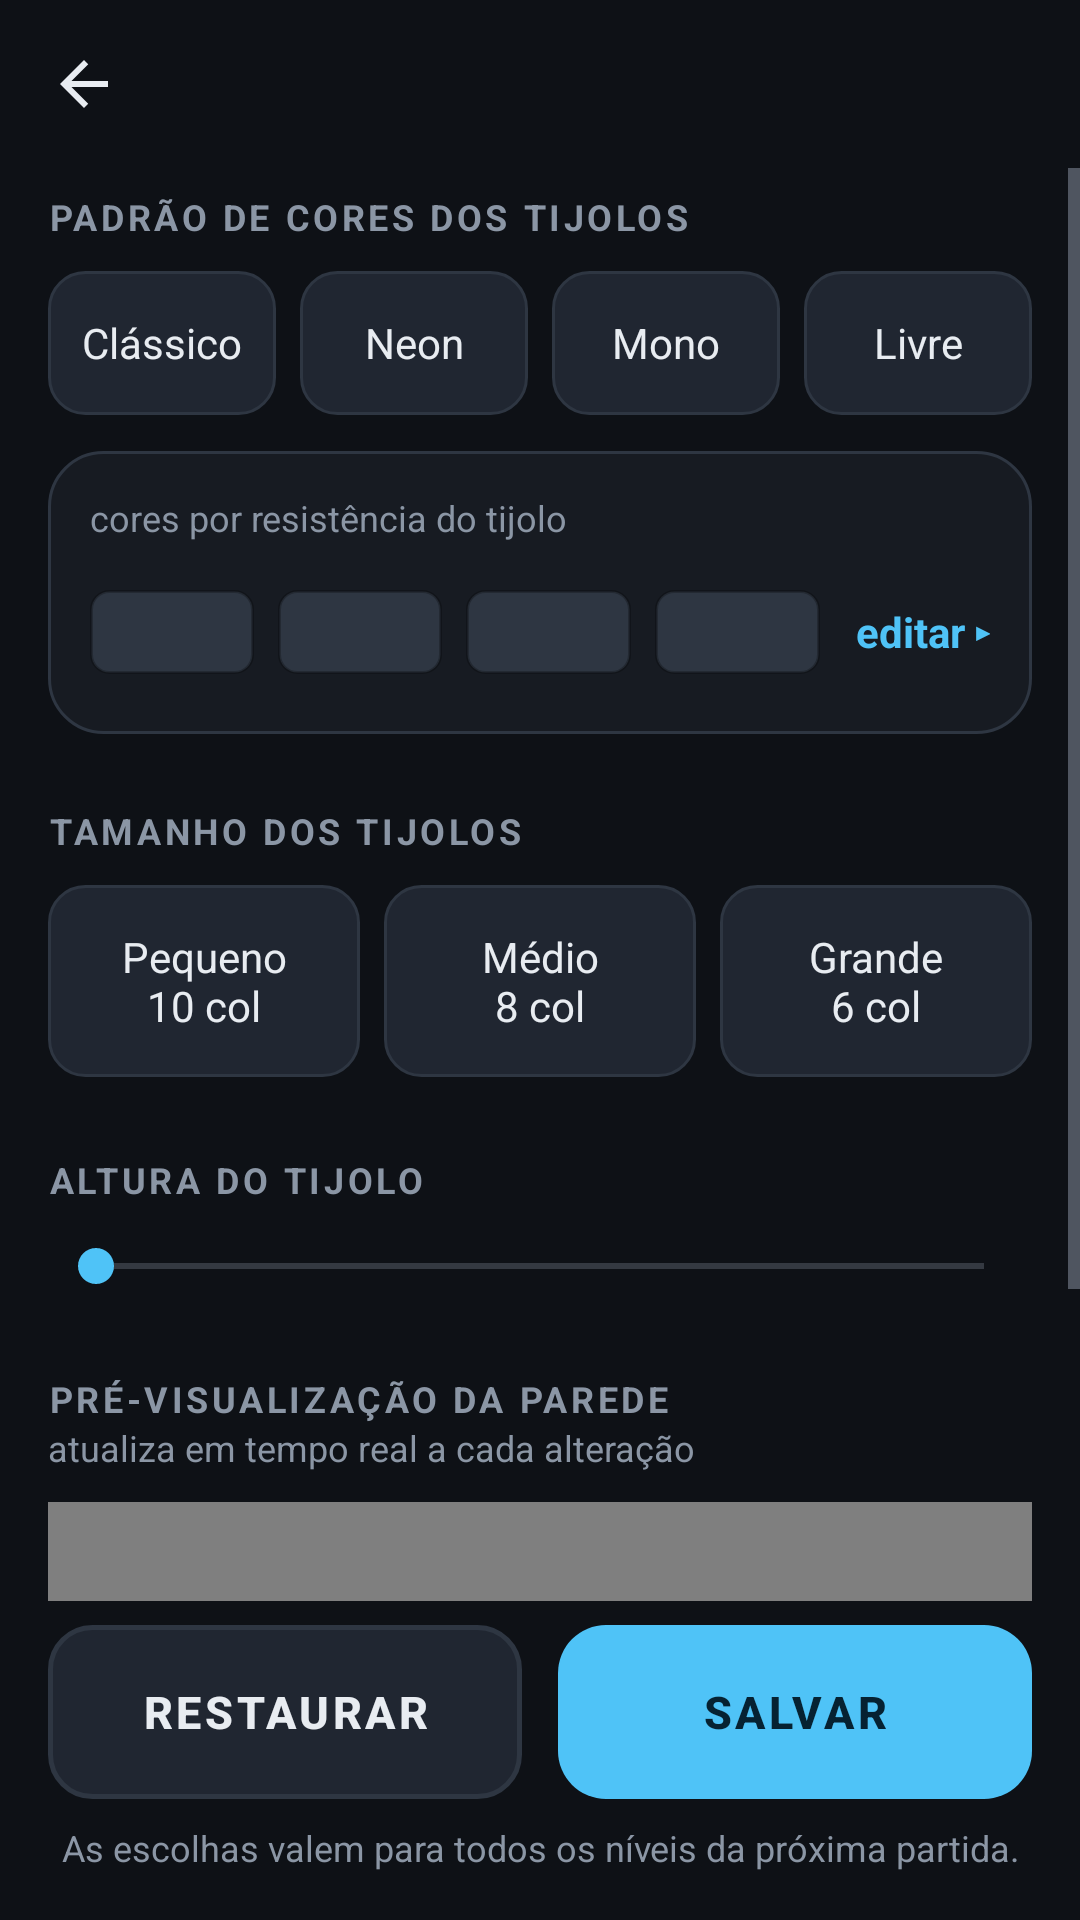

Named icons in this screenshot (1080x1920) and their bounding boxes, bbox=[x1, y1, x2, y2]:
Voltar: bbox=[60, 60, 108, 108]
